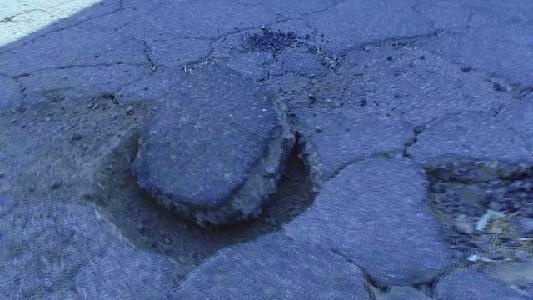pothole: (83, 110, 320, 269), (416, 157, 531, 275)
